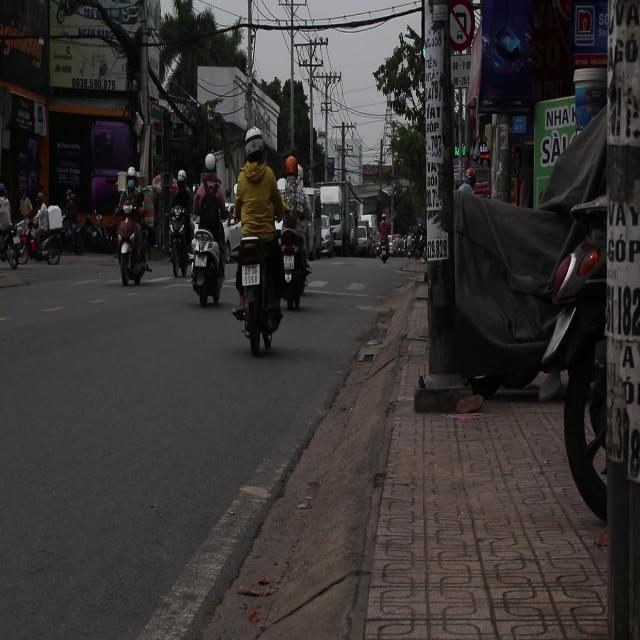motorbike: (230, 218, 292, 385), (106, 199, 152, 299), (185, 200, 221, 312), (16, 207, 76, 270), (162, 200, 192, 294)
truck: (304, 176, 348, 261)
